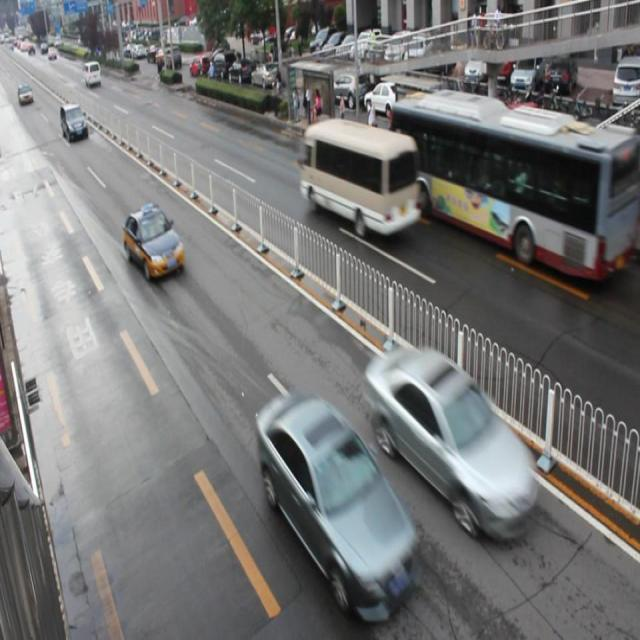car: (253, 390, 414, 617), (364, 344, 536, 536), (121, 203, 186, 279)
truck: (299, 116, 416, 226)
van: (390, 90, 640, 276)
